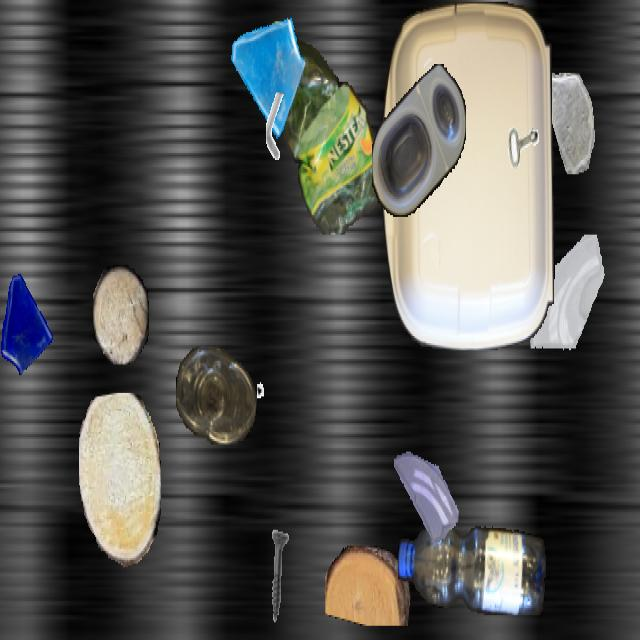glass: (528, 234, 610, 380), (227, 2, 305, 140), (394, 441, 458, 555), (0, 269, 55, 375), (540, 73, 596, 172)
metal: (489, 73, 549, 179), (250, 528, 306, 628), (256, 92, 296, 164), (257, 366, 295, 434)
plastic: (382, 2, 554, 350), (252, 21, 382, 235), (372, 64, 466, 217), (398, 519, 546, 615), (176, 347, 256, 442)
wood: (79, 393, 161, 567), (325, 546, 411, 624), (93, 265, 149, 364)
